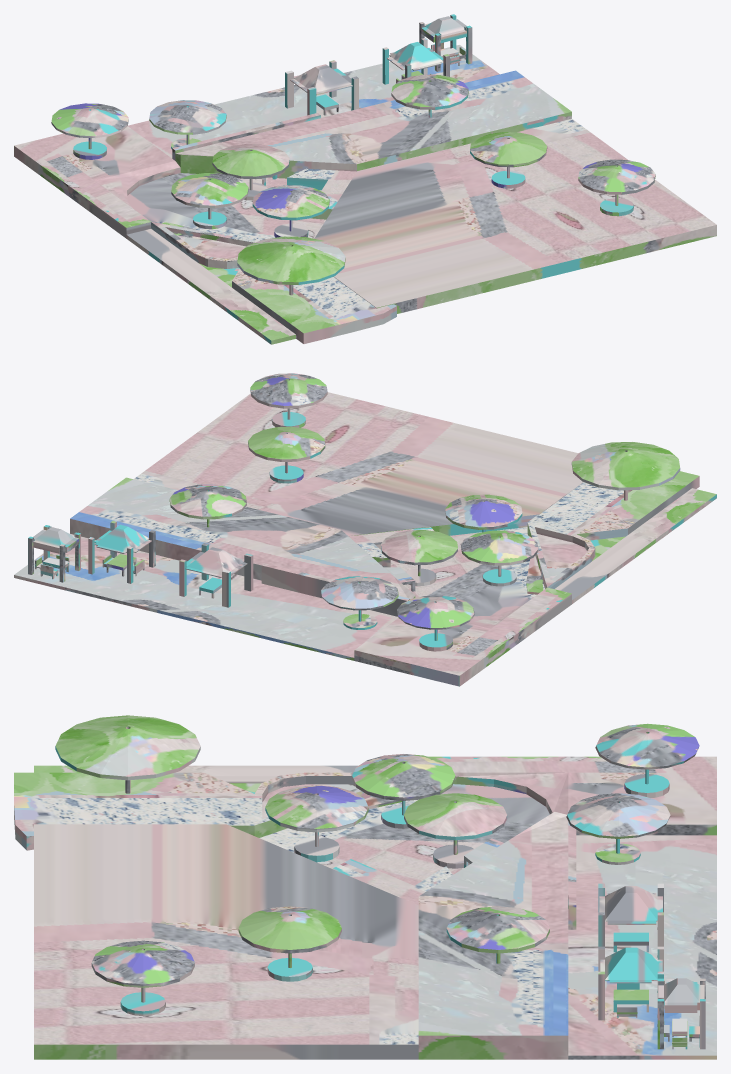
File: TOWN SQUARE.fbx
The picture shows the model from 3 angles, top to bottom: view 1: azimuth 30°, elevation 25°; view 2: azimuth 150°, elevation 25°; view 3: azimuth 270°, elevation 25°; orthographic projection. The views are drawn at different scales.
Parts seen in each view (by area): view 1: town square; view 2: town square; view 3: town square.
Boxes of the visible parts, box(x1,y1,x2,y2) form: town square: box(14, 14, 716, 344); town square: box(14, 373, 716, 686); town square: box(14, 715, 716, 1059).
Bounding box in the file's own units: 84088 × 11725 × 86481.
